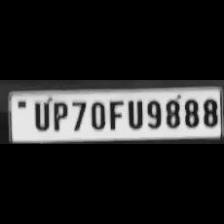0: (86, 97, 106, 130)
7: (68, 98, 86, 132)
8: (180, 96, 200, 128), (199, 96, 219, 128), (162, 96, 180, 130)
9: (144, 96, 162, 130)
F: (106, 97, 124, 130)
P: (50, 98, 68, 132)
U: (28, 98, 52, 132), (124, 96, 144, 130)
